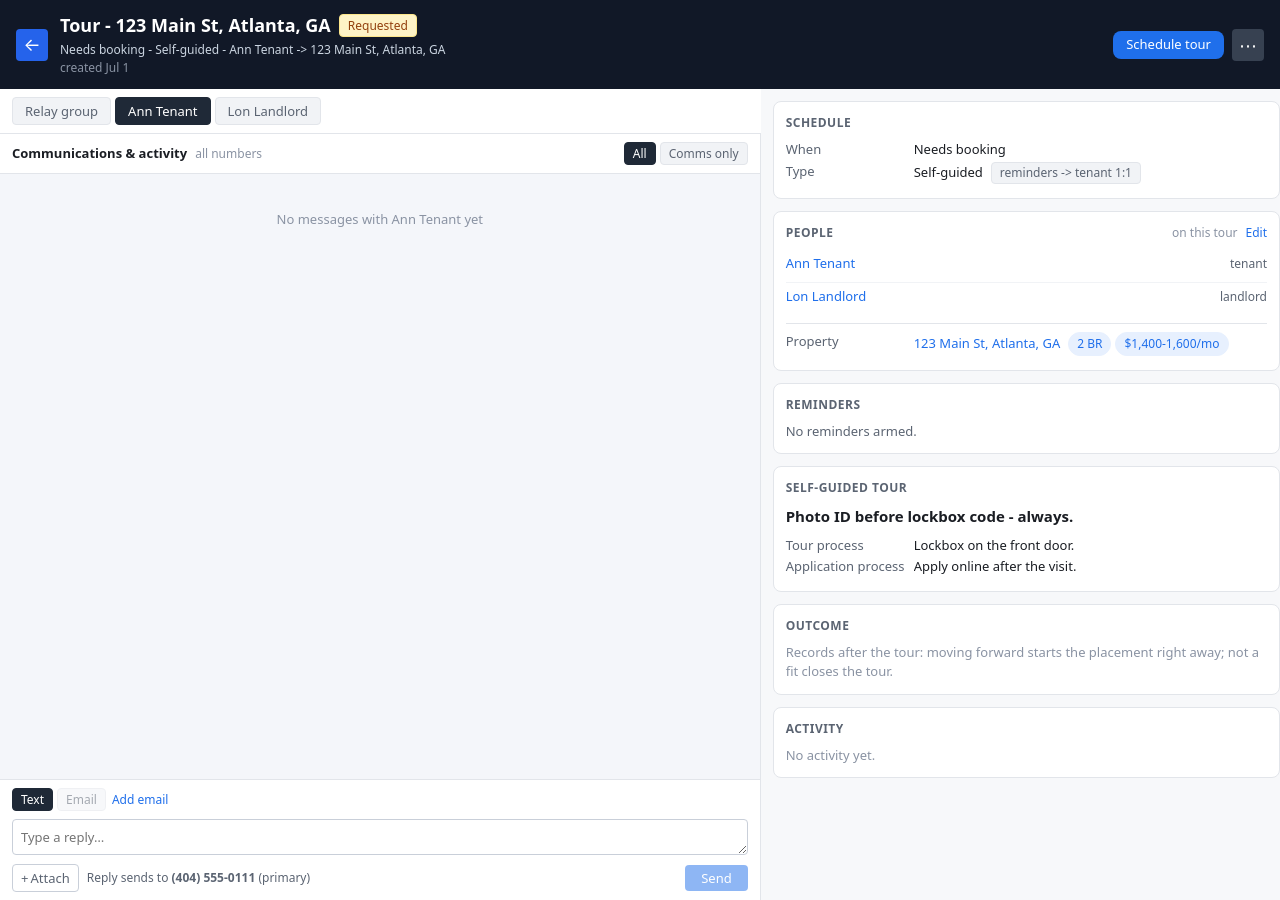
Test: TourDetail - Mark already toured › a failed PATCH keeps the dialog open with an inline error and no outcome modal
Expected: the link "←" is shown, [16, 28, 48, 60]
Click the button named "More actions" at (1248, 44), box [1232, 28, 1264, 60]
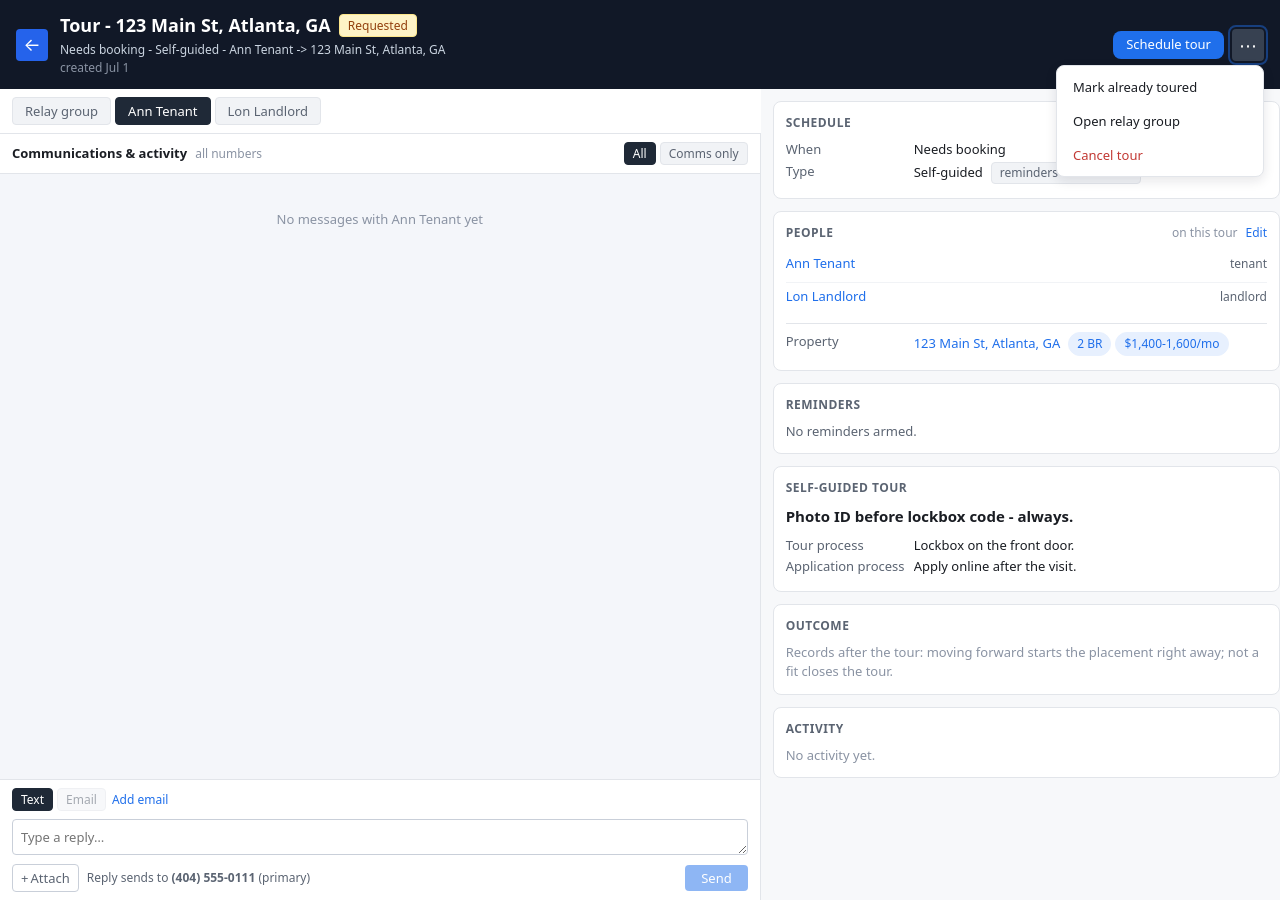
Click the menu item "Mark already toured" at (1160, 86), box [1061, 70, 1259, 104]
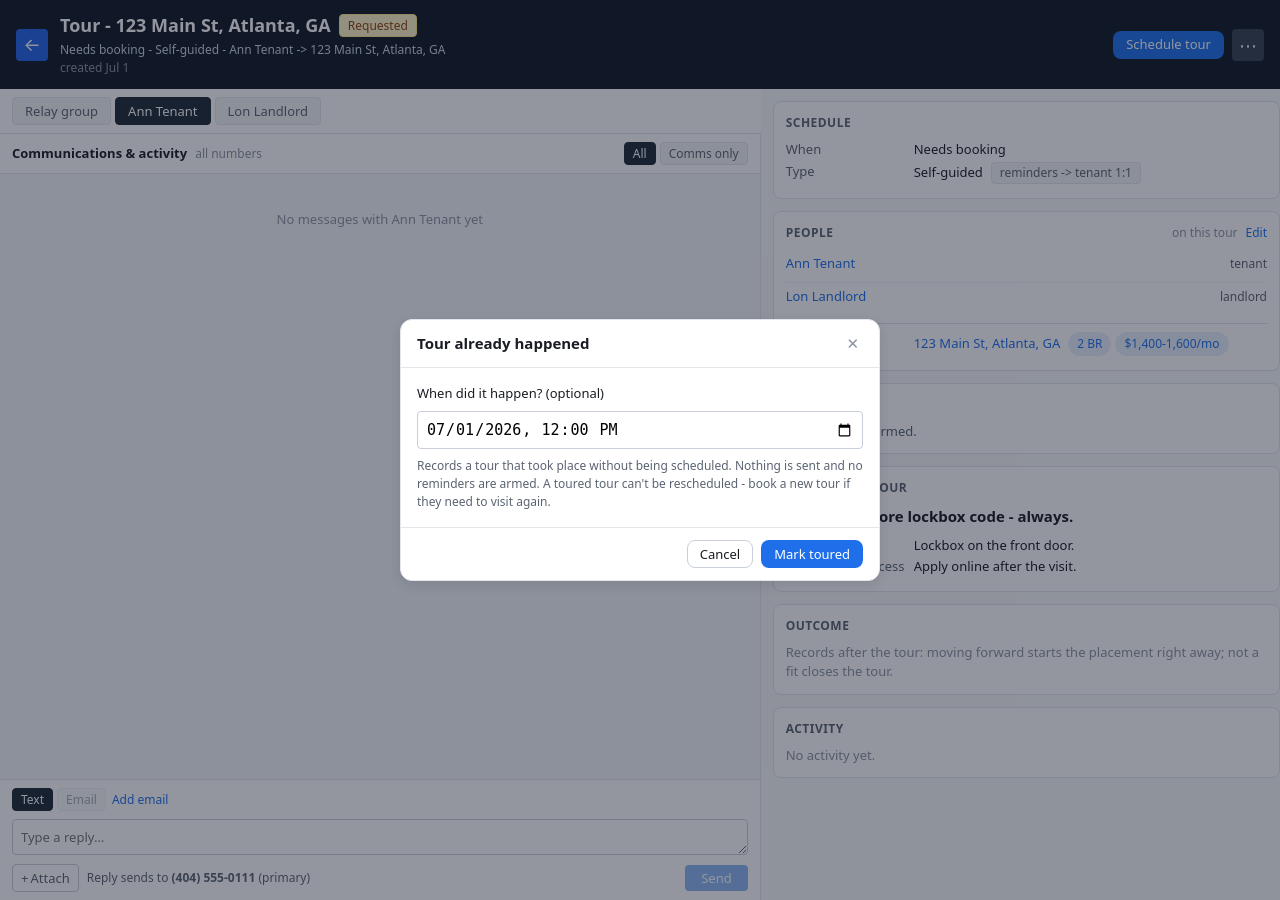
Click the button "Mark toured" at (812, 554), box [761, 540, 863, 568]
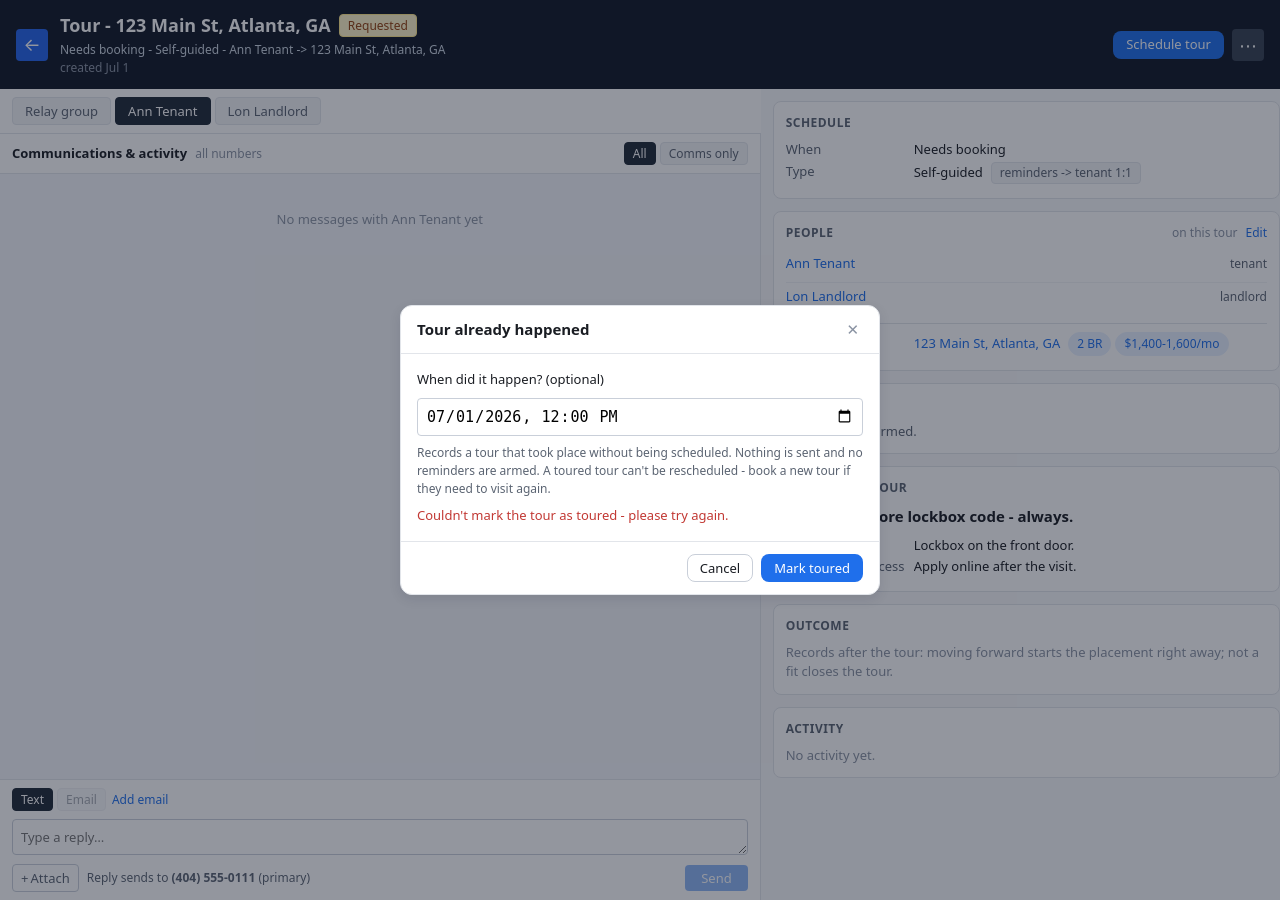
Now the form named "Mark already toured form" is shown, box [417, 370, 863, 525]
Now the message shows "Couldn't mark the tour as toured", box [417, 506, 729, 524]
